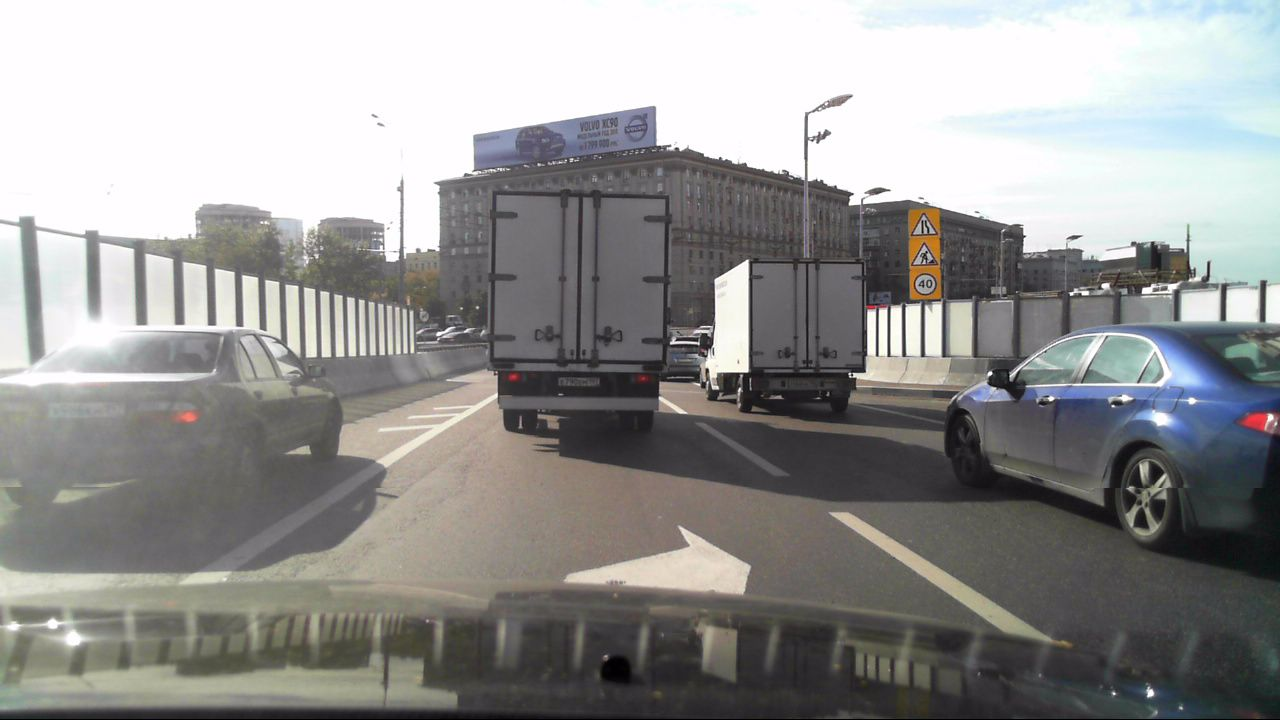speed_warning_40: (910, 266, 939, 298)
